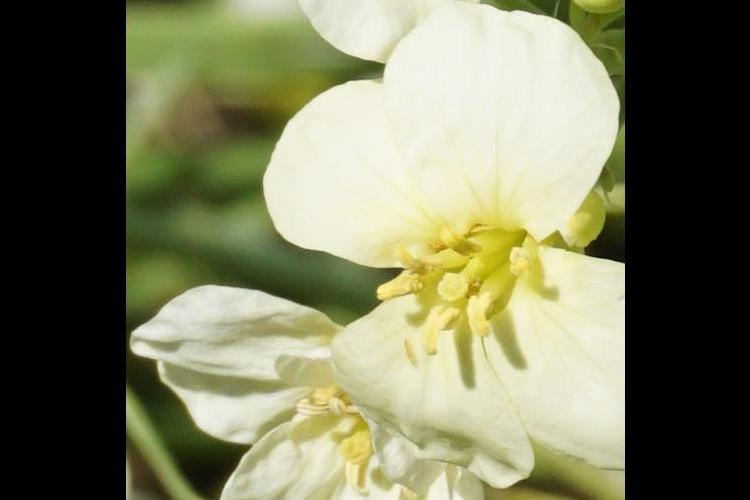white: (143, 277, 514, 500), (166, 1, 589, 57)
